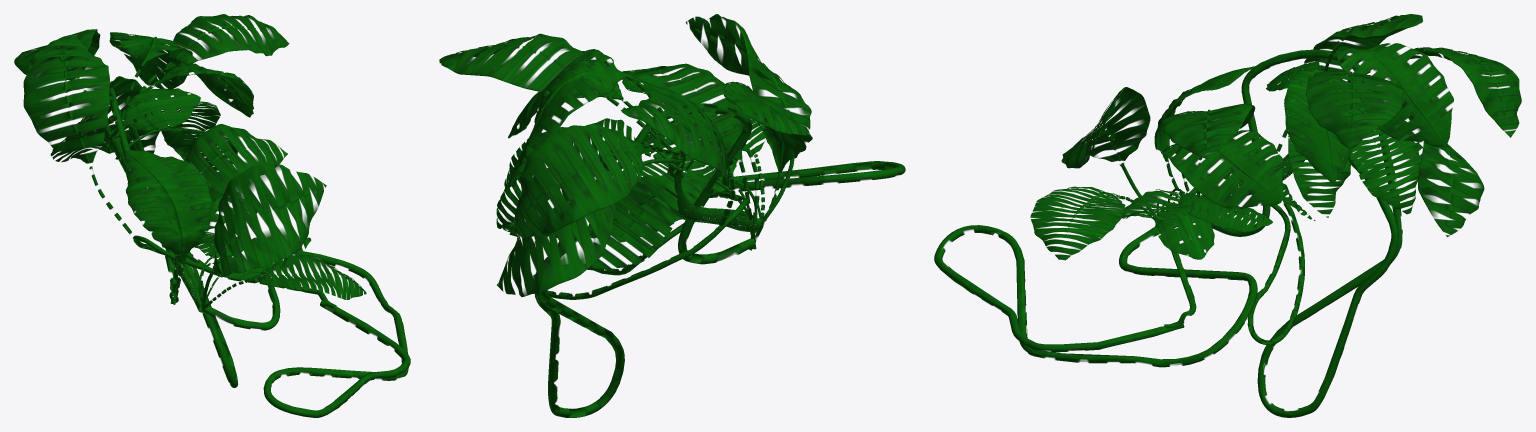
Rendered from topleaves2.glb.
The picture shows the model from 3 angles, left to right: view 1: azimuth 30°, elevation 25°; view 2: azimuth 150°, elevation 25°; view 3: azimuth 270°, elevation 25°; orthographic projection. The views are drawn at different scales.
Visible parts, largest first — view 1: leaf_008_mesh.012; view 2: leaf_008_mesh.012; view 3: leaf_008_mesh.012.
Part boxes in pixels (<box>): leaf_008_mesh.012: <box>14,14,410,417</box>; leaf_008_mesh.012: <box>439,14,905,417</box>; leaf_008_mesh.012: <box>934,14,1521,417</box>.
Bounding box in the file's own units: 0.7691 × 0.9157 × 1.4.
Materials: 1 (1 with a texture image).
